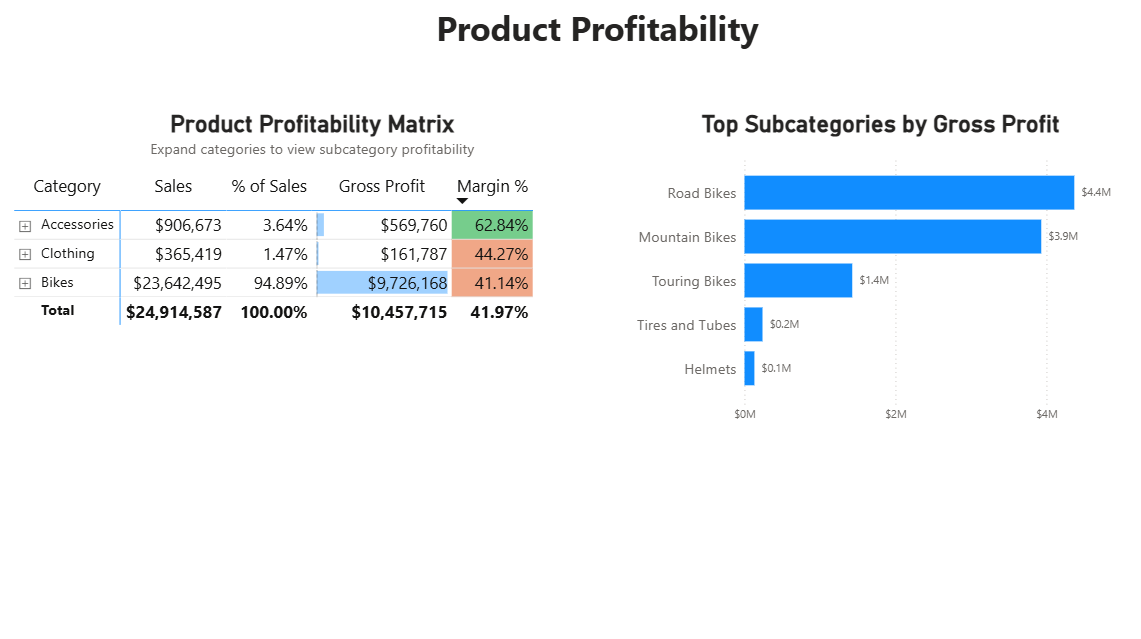

This screenshot's page, from the dashboard's own definition file:
{"tool":"powerbi","page":{"name":"Product Profitability","canvas":[1280,720],"ordinal":1},"visuals":[{"type":"pivotTable","title":"Product Profitability Matrix","fields":{"Values":["Sales.Total Sales","Divide(Sales.Total Sales, ScopedEval(Sales.Total Sales, []))","Sales.Gross Profit","Sales.Gross Margin %"],"Rows":["ProductCategories.CategoryName","ProductSubcategories.SubcategoryName"]},"box":[11.1,122.5,672.8,598.1],"z":0},{"type":"textbox","box":[47.7,0,1232.7,74.8],"z":1000},{"type":"barChart","title":"Top Subcategories by Gross Profit","fields":{"Category":["ProductSubcategories.SubcategoryName"],"Y":["Sales.Gross Profit"]},"box":[695.1,122.5,569.4,356.3],"z":2000}]}

Visuals, with their boxes in screenshot pixels (x1, y1, x2, y2), scaled from the page's 1280x720 canvas onto the 1141x639 screenshot:
"Product Profitability Matrix" pivotTable: {"x1": 10, "y1": 109, "x2": 610, "y2": 638}
textbox: {"x1": 43, "y1": 0, "x2": 1140, "y2": 66}
"Top Subcategories by Gross Profit" barChart: {"x1": 620, "y1": 109, "x2": 1127, "y2": 425}
